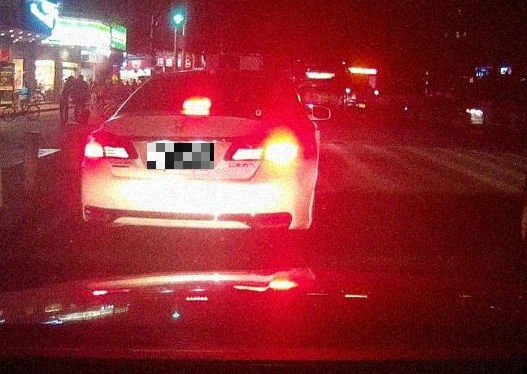L_light: (84, 137, 138, 159)
R_light: (223, 141, 303, 162)
T_light: (182, 99, 212, 111)
night-right: (80, 68, 311, 253)
plate_1: (147, 143, 214, 169)
